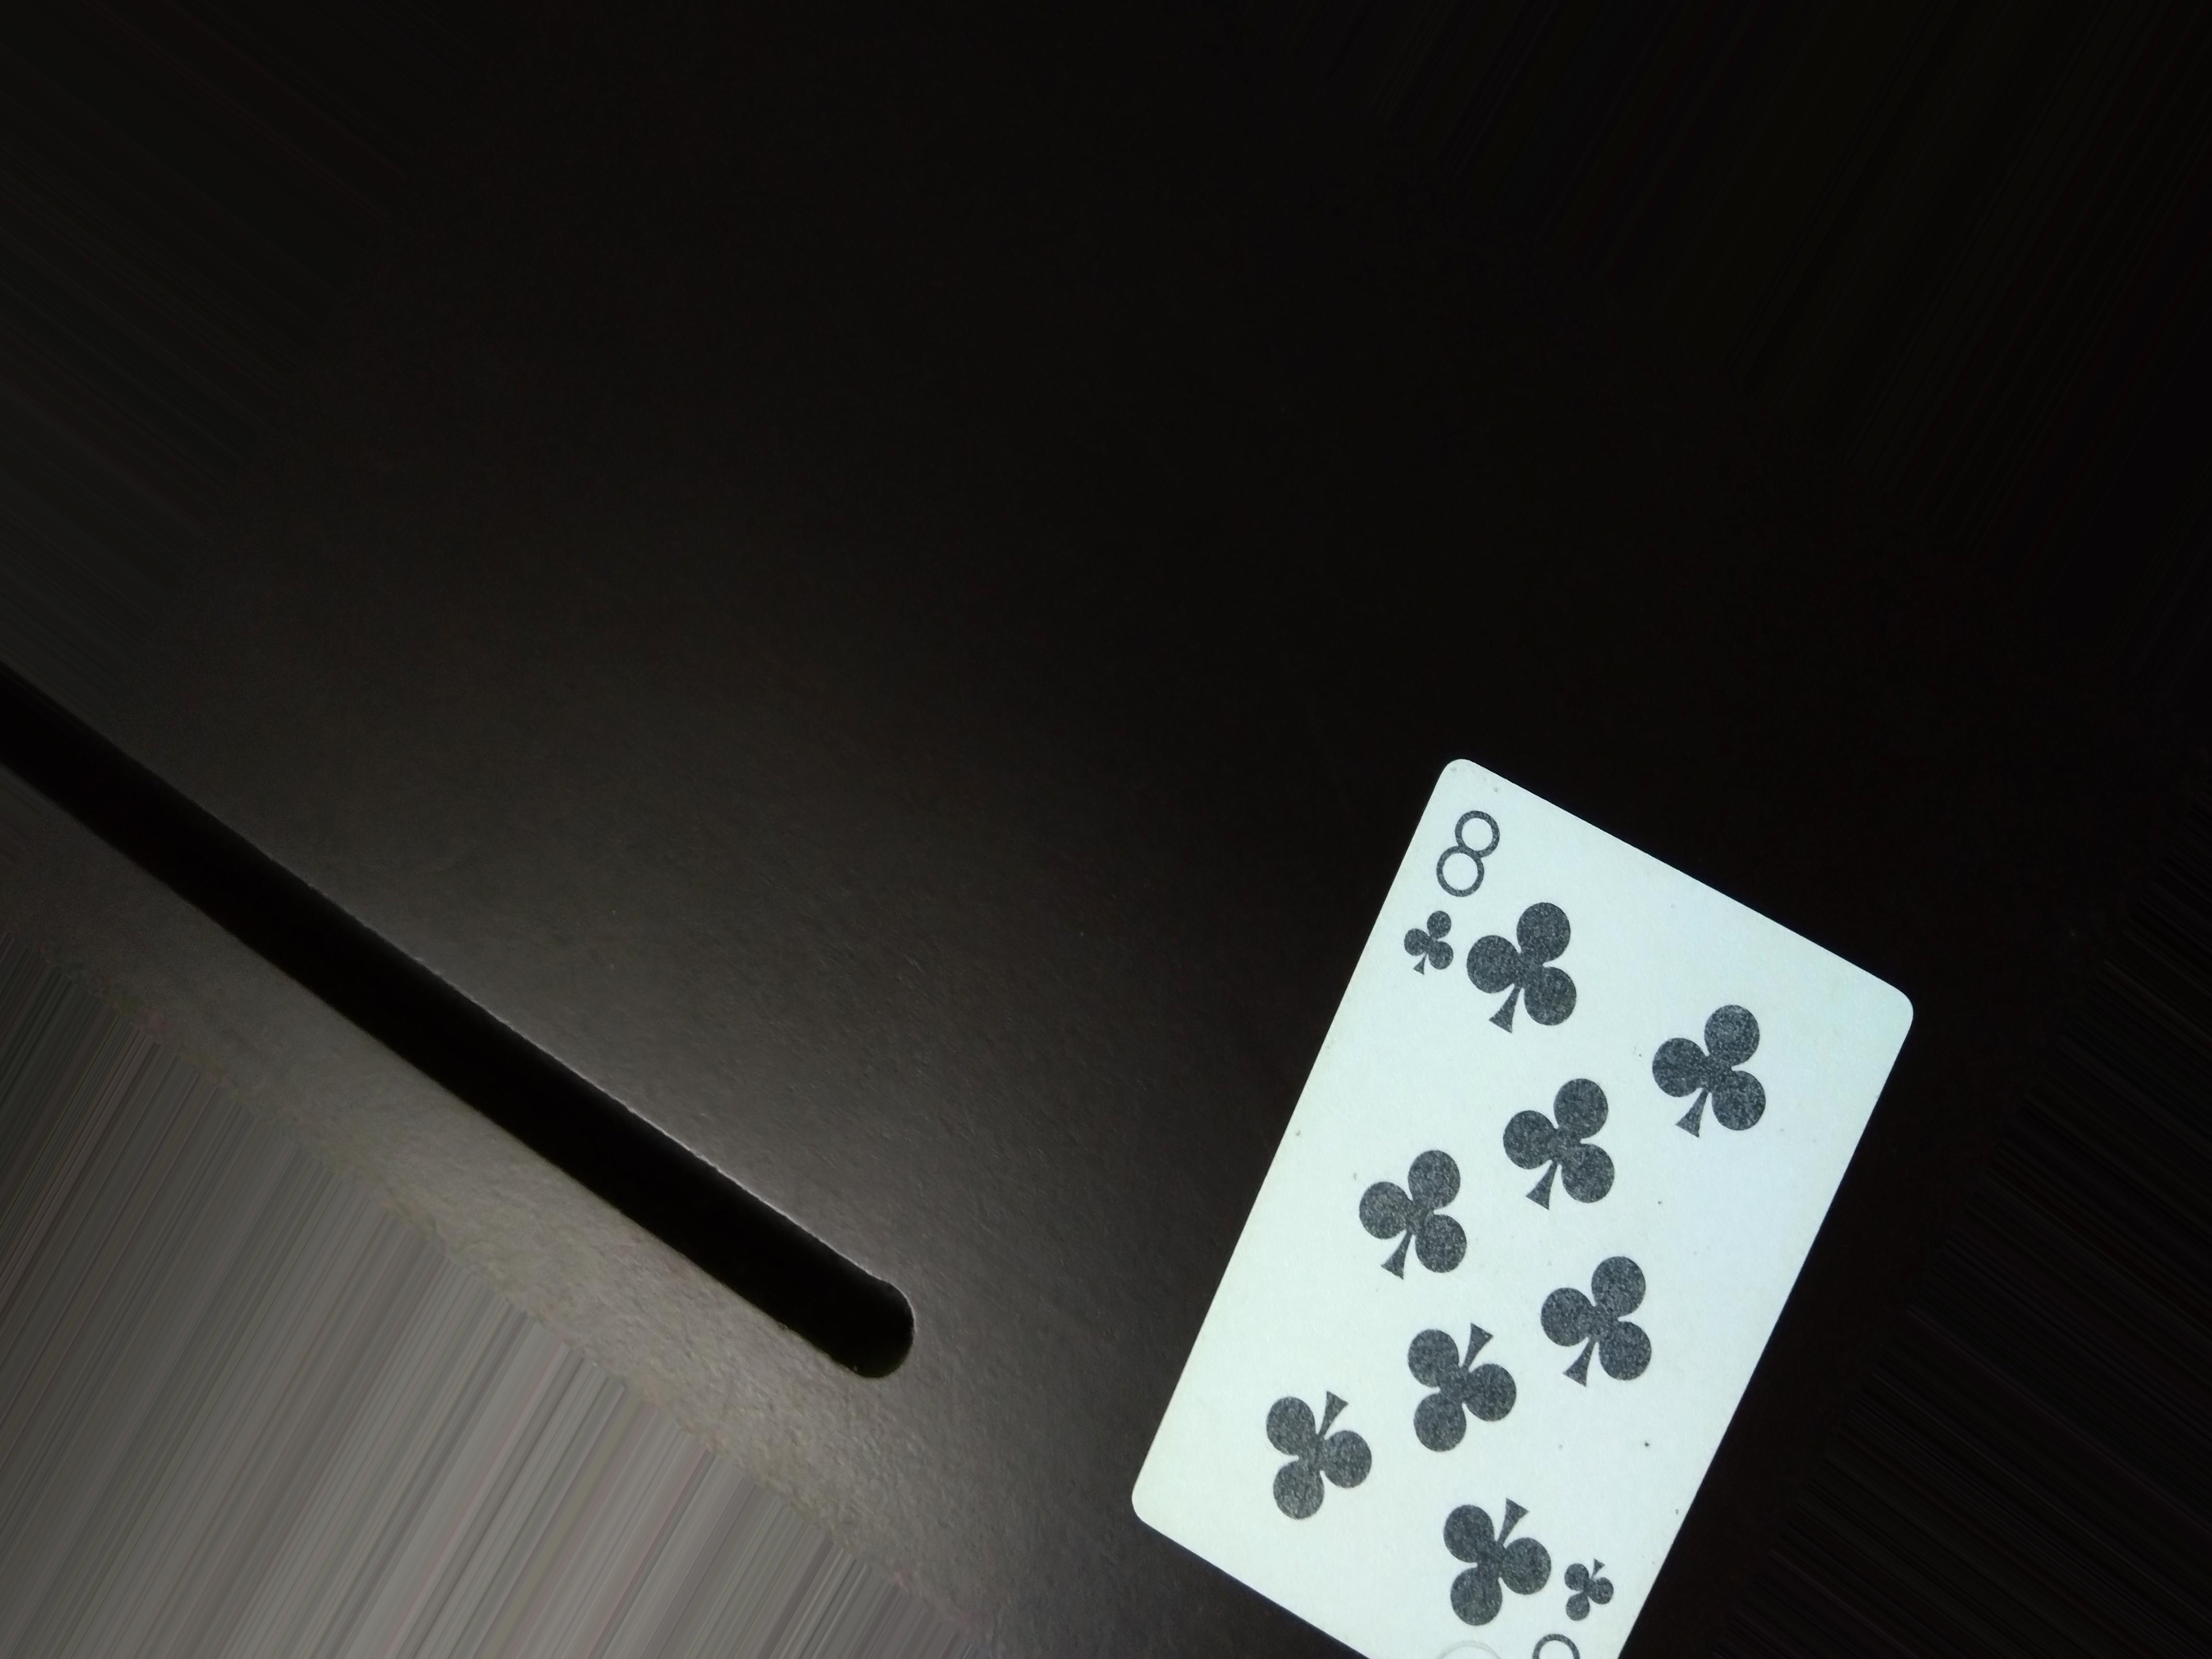8C: (1392, 762, 1548, 985)
